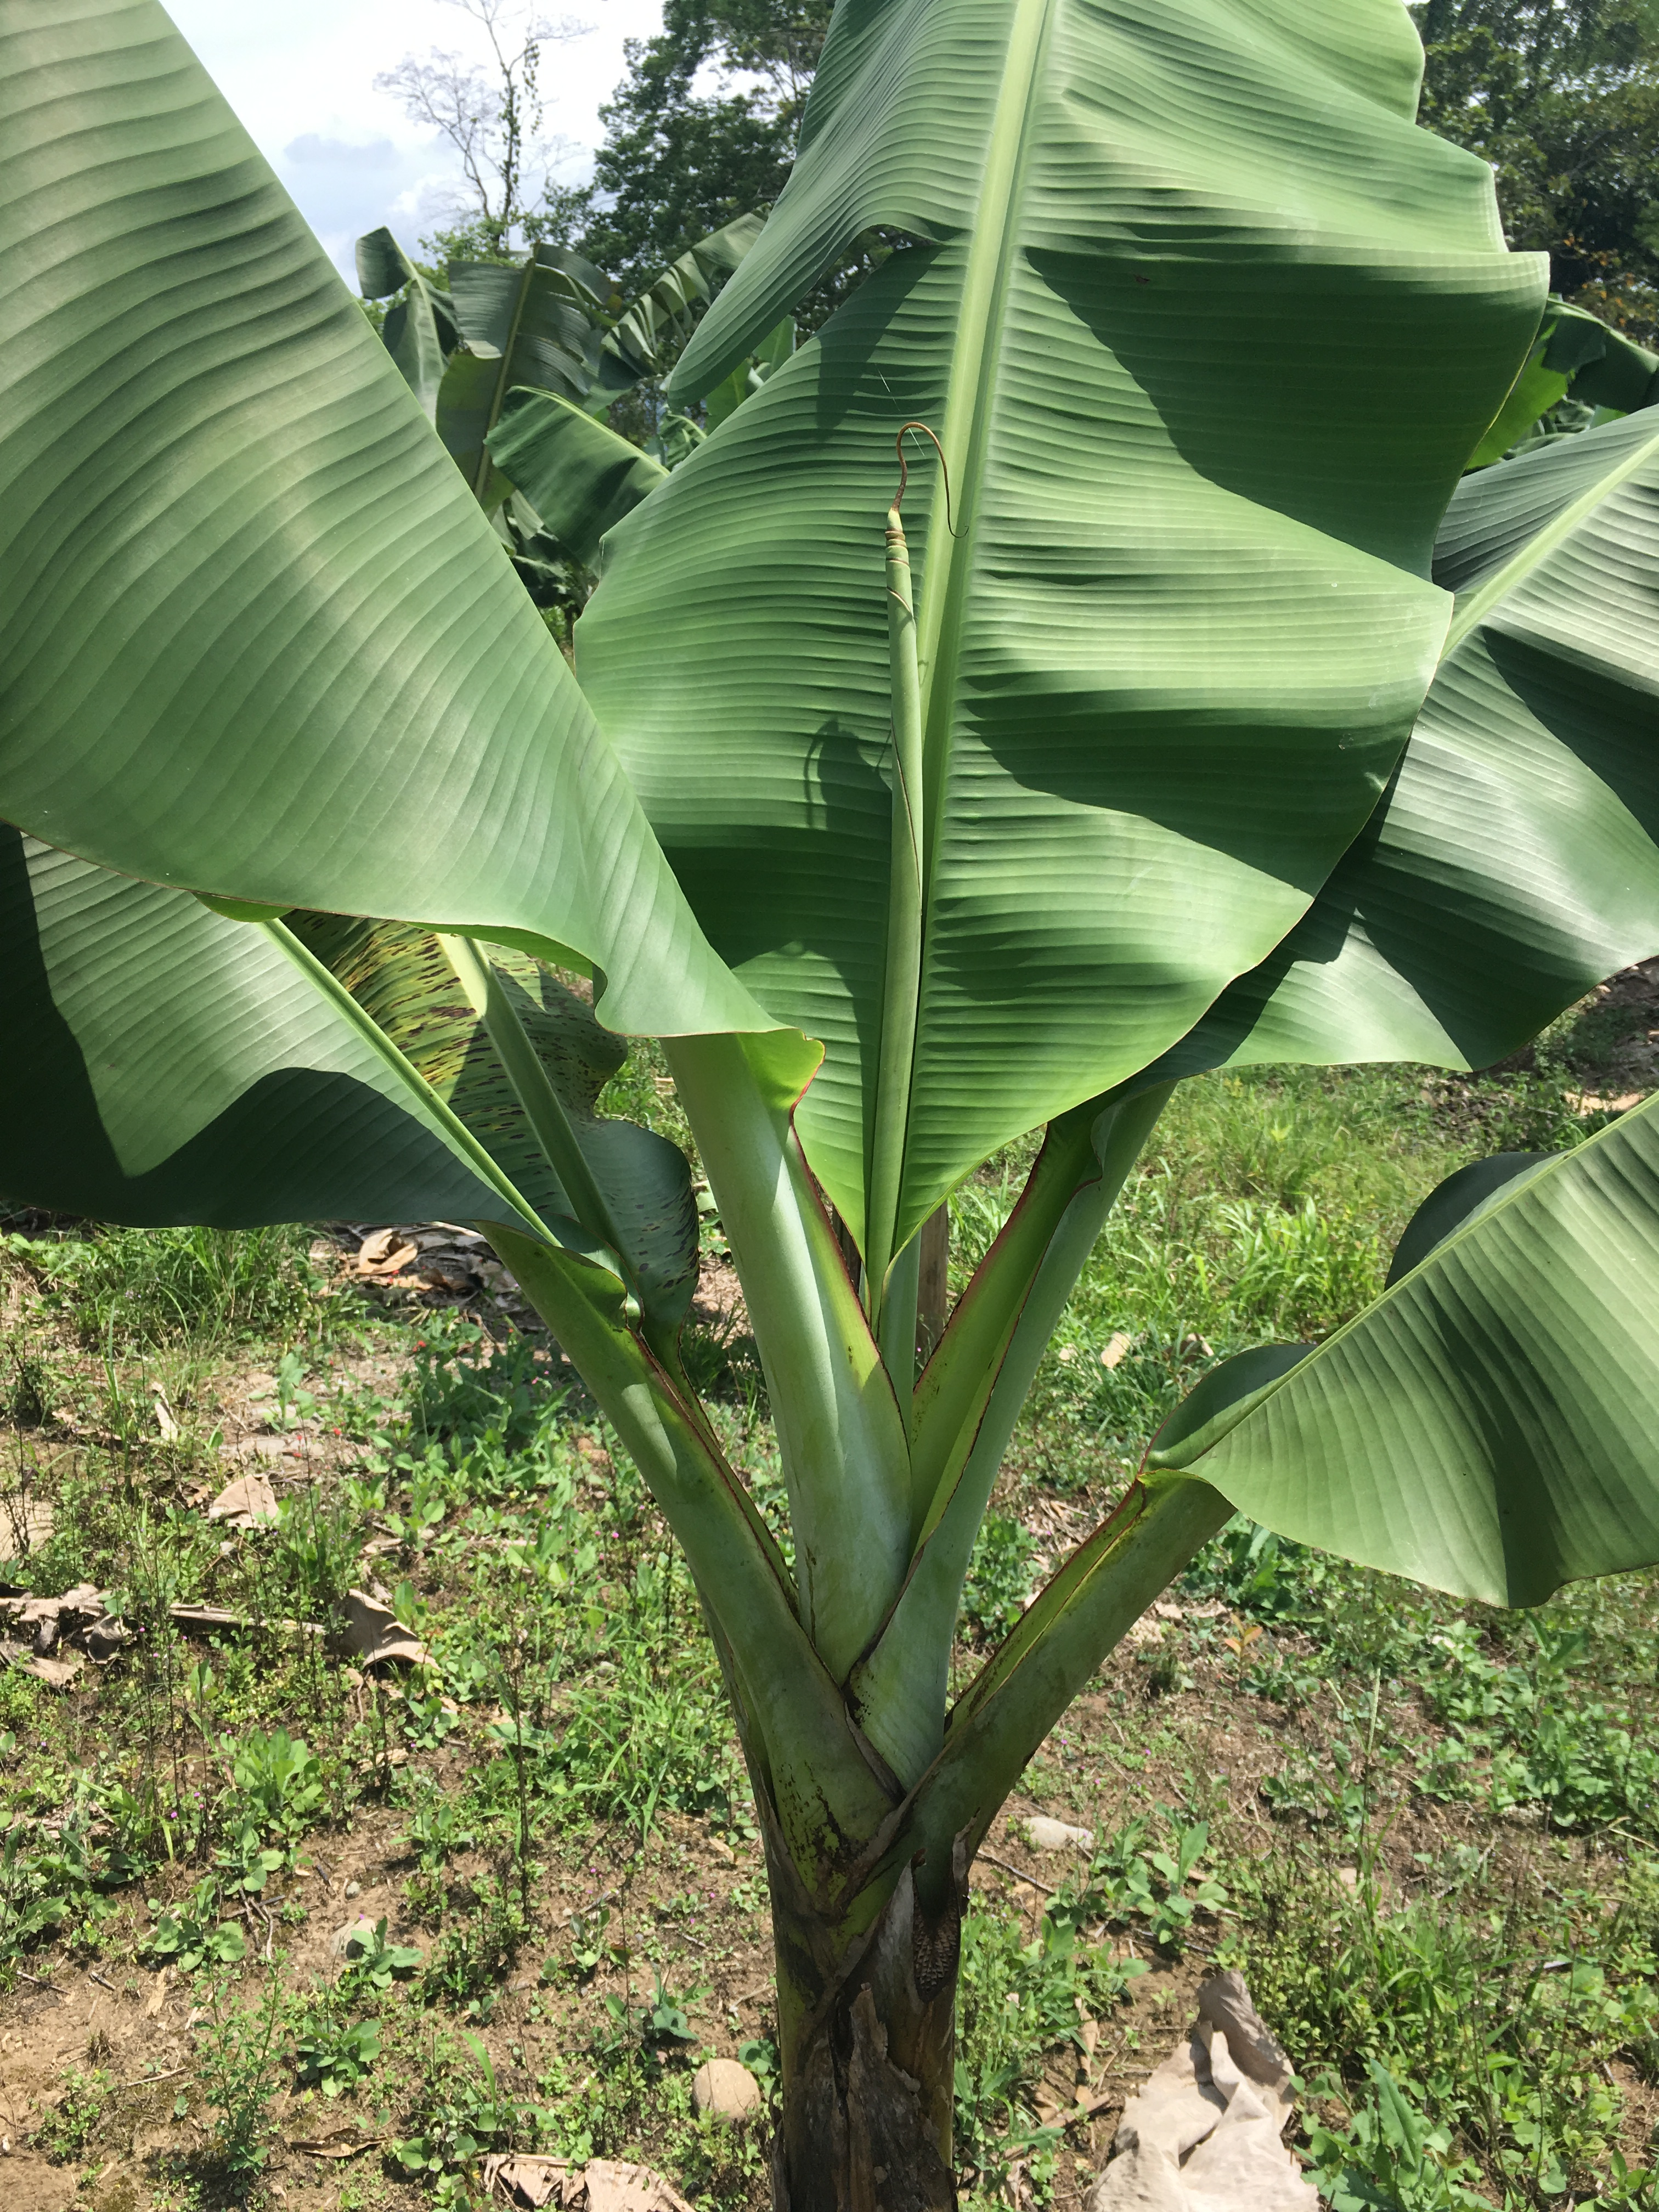candleleafs: (864, 423, 955, 1191)
